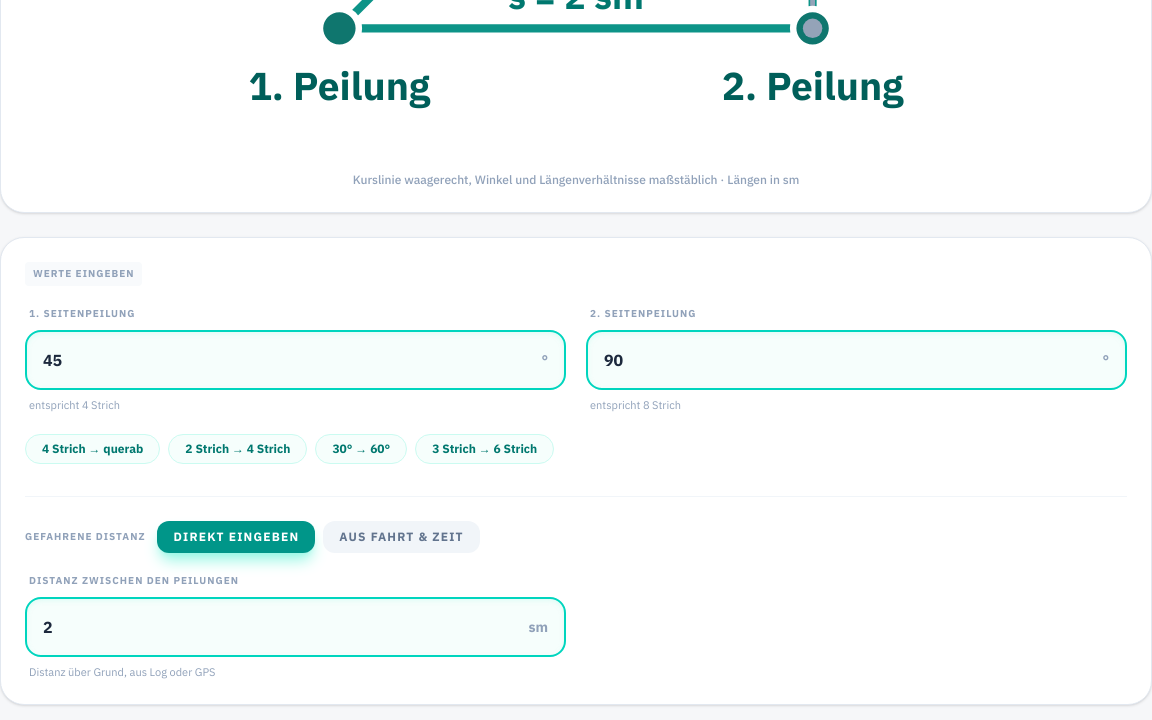
Test: VersegelungRechner › unbrauchbare Winkelkombination zeigt eine Fehlermeldung statt Zahlen
(page scrolled)
Replace the text in the number field labelled "2. Seitenpeilung" with "30" at (856, 360), box [588,332,1125,388]
(page scrolled)
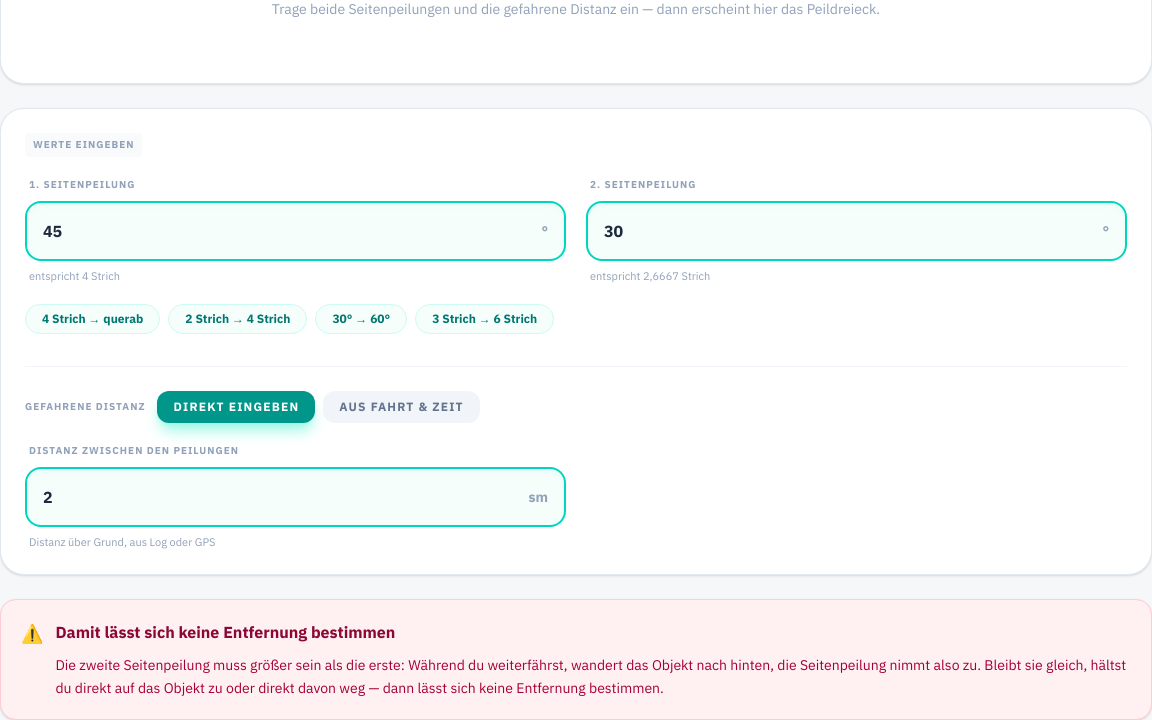
Now the text "Damit lässt sich keine Entfernung bestimmen" is shown, box [56,622,395,642]
Now the text "zweite Seitenpeilung muss größer sein" is shown, box [56,656,1126,697]
